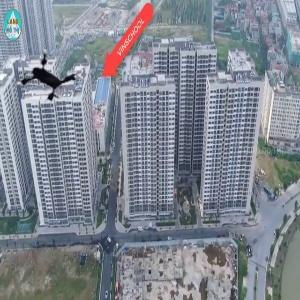drone: (8, 31, 91, 114)
